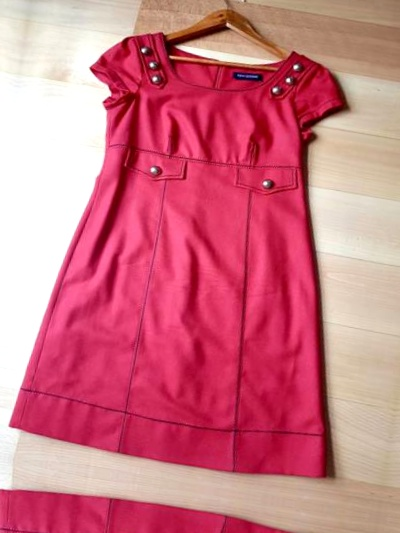Dress: (0, 0, 400, 503), (0, 467, 347, 533), (335, 533, 400, 533)
